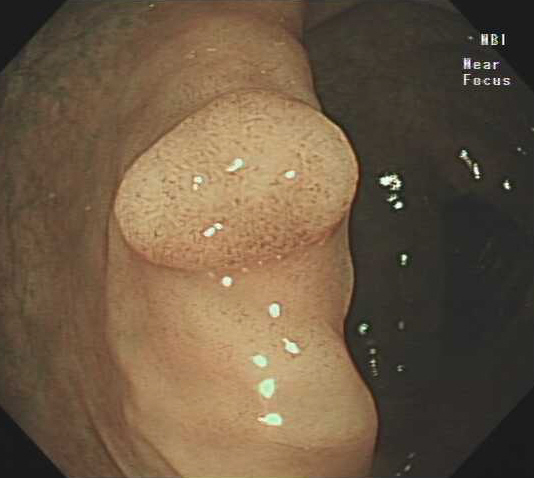others: (109, 84, 361, 273)
